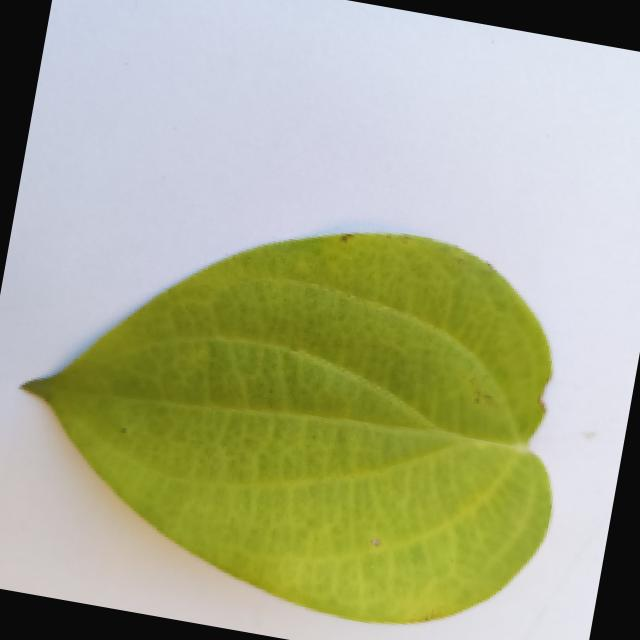slow-decline: (0, 167, 630, 640)
